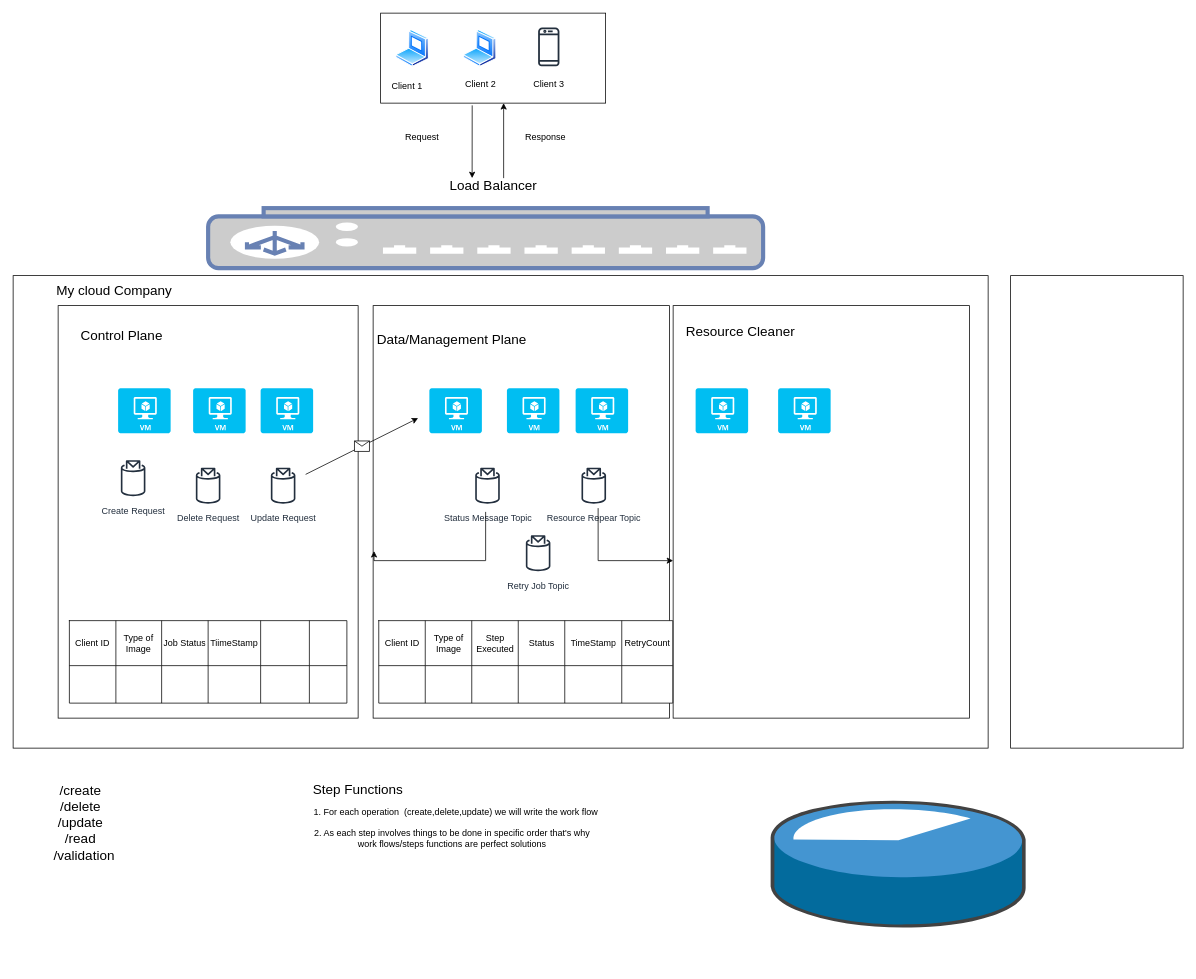
This 1196x979 diagram has some shape labels left out. Here are the shapes that lost their labels. From the top down, the box of each, then its label:
(1010, 275, 1183, 748): Customer Tenant
(770, 800, 1026, 928): Resource Pool to Allocate the Resource Data Center
